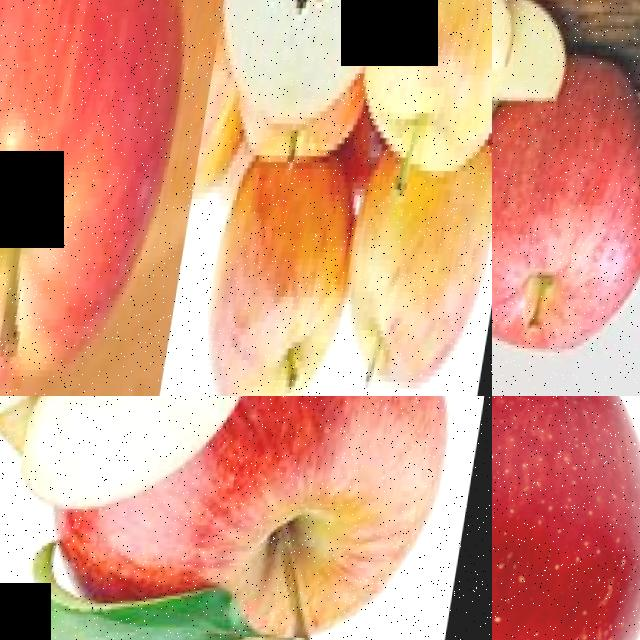apple: (0, 0, 231, 396), (29, 499, 434, 640), (492, 97, 640, 374), (205, 159, 377, 396), (0, 396, 291, 522), (492, 396, 640, 640), (340, 167, 492, 396), (208, 0, 425, 151), (367, 0, 492, 195), (229, 114, 372, 197), (506, 10, 585, 111), (492, 0, 531, 75)
